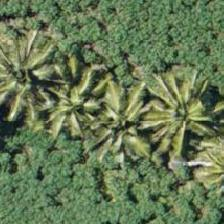coconut_tree: (25, 69, 115, 159), (73, 68, 163, 158), (135, 75, 223, 165), (0, 16, 66, 106)
